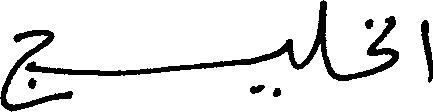X: (0, 25, 53, 111), (366, 11, 397, 81), (313, 0, 325, 71), (421, 15, 432, 87), (284, 34, 293, 72)
